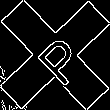P_NW: (24, 24, 86, 86)
